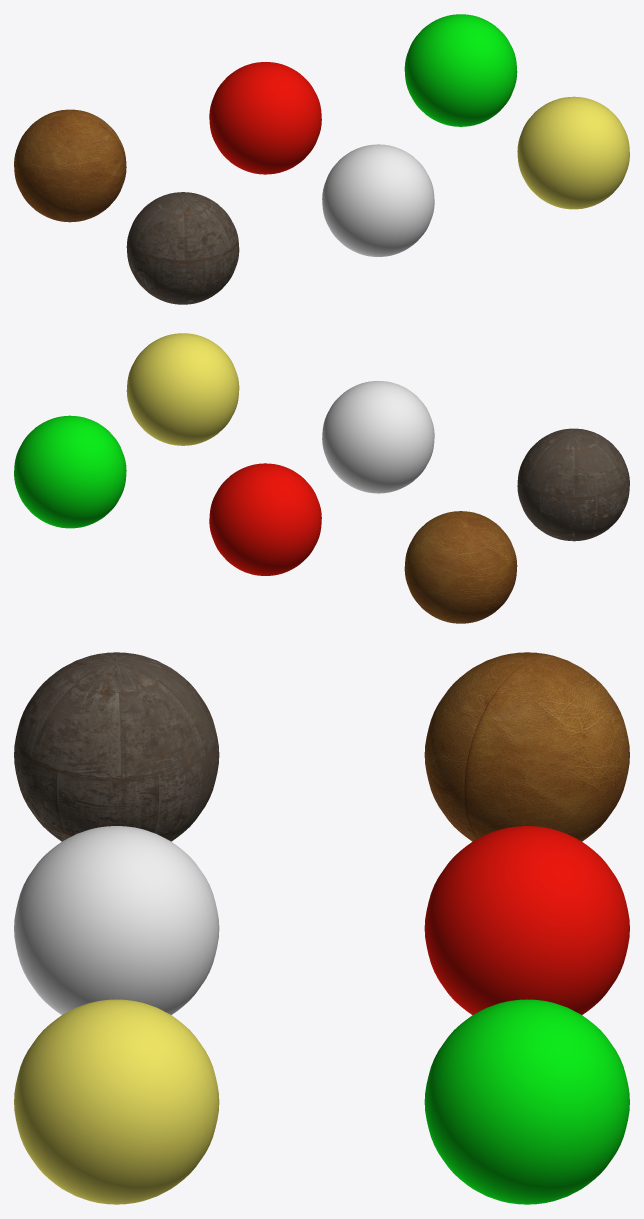
File: pbrball.glb
3 views of the same model, one above another, from view 1: azimuth 30°, elevation 25°; view 2: azimuth 150°, elevation 25°; view 3: azimuth 270°, elevation 25° (orthographic). The views are drawn at different scales.
Visible parts, largest first — view 1: Sphere, Sphere.002, Sphere.003, Sphere.004, Sphere.005, Sphere.006; view 2: Sphere, Sphere.002, Sphere.003, Sphere.004, Sphere.005, Sphere.006; view 3: Sphere.002, Sphere.006, Sphere, Sphere.003, Sphere.004, Sphere.005.
Part boxes in pixels (x1=…): Sphere: x1=322, y1=144, x2=434, y2=256; Sphere.002: x1=517, y1=96, x2=629, y2=209; Sphere.003: x1=126, y1=192, x2=239, y2=304; Sphere.004: x1=209, y1=62, x2=321, y2=174; Sphere.005: x1=14, y1=109, x2=126, y2=222; Sphere.006: x1=404, y1=14, x2=517, y2=126; Sphere: x1=322, y1=381, x2=434, y2=493; Sphere.002: x1=126, y1=333, x2=239, y2=445; Sphere.003: x1=517, y1=428, x2=629, y2=541; Sphere.004: x1=209, y1=463, x2=321, y2=575; Sphere.005: x1=404, y1=511, x2=517, y2=623; Sphere.006: x1=14, y1=415, x2=126, y2=528; Sphere.002: x1=14, y1=999, x2=219, y2=1204; Sphere.006: x1=424, y1=999, x2=629, y2=1204; Sphere: x1=14, y1=826, x2=219, y2=1014; Sphere.003: x1=14, y1=652, x2=219, y2=841; Sphere.004: x1=424, y1=826, x2=629, y2=1014; Sphere.005: x1=424, y1=652, x2=629, y2=841.
Size of what is drawn, in the model's own units: 5 by 1 by 3.
Materials: 6 (2 with a texture image).
